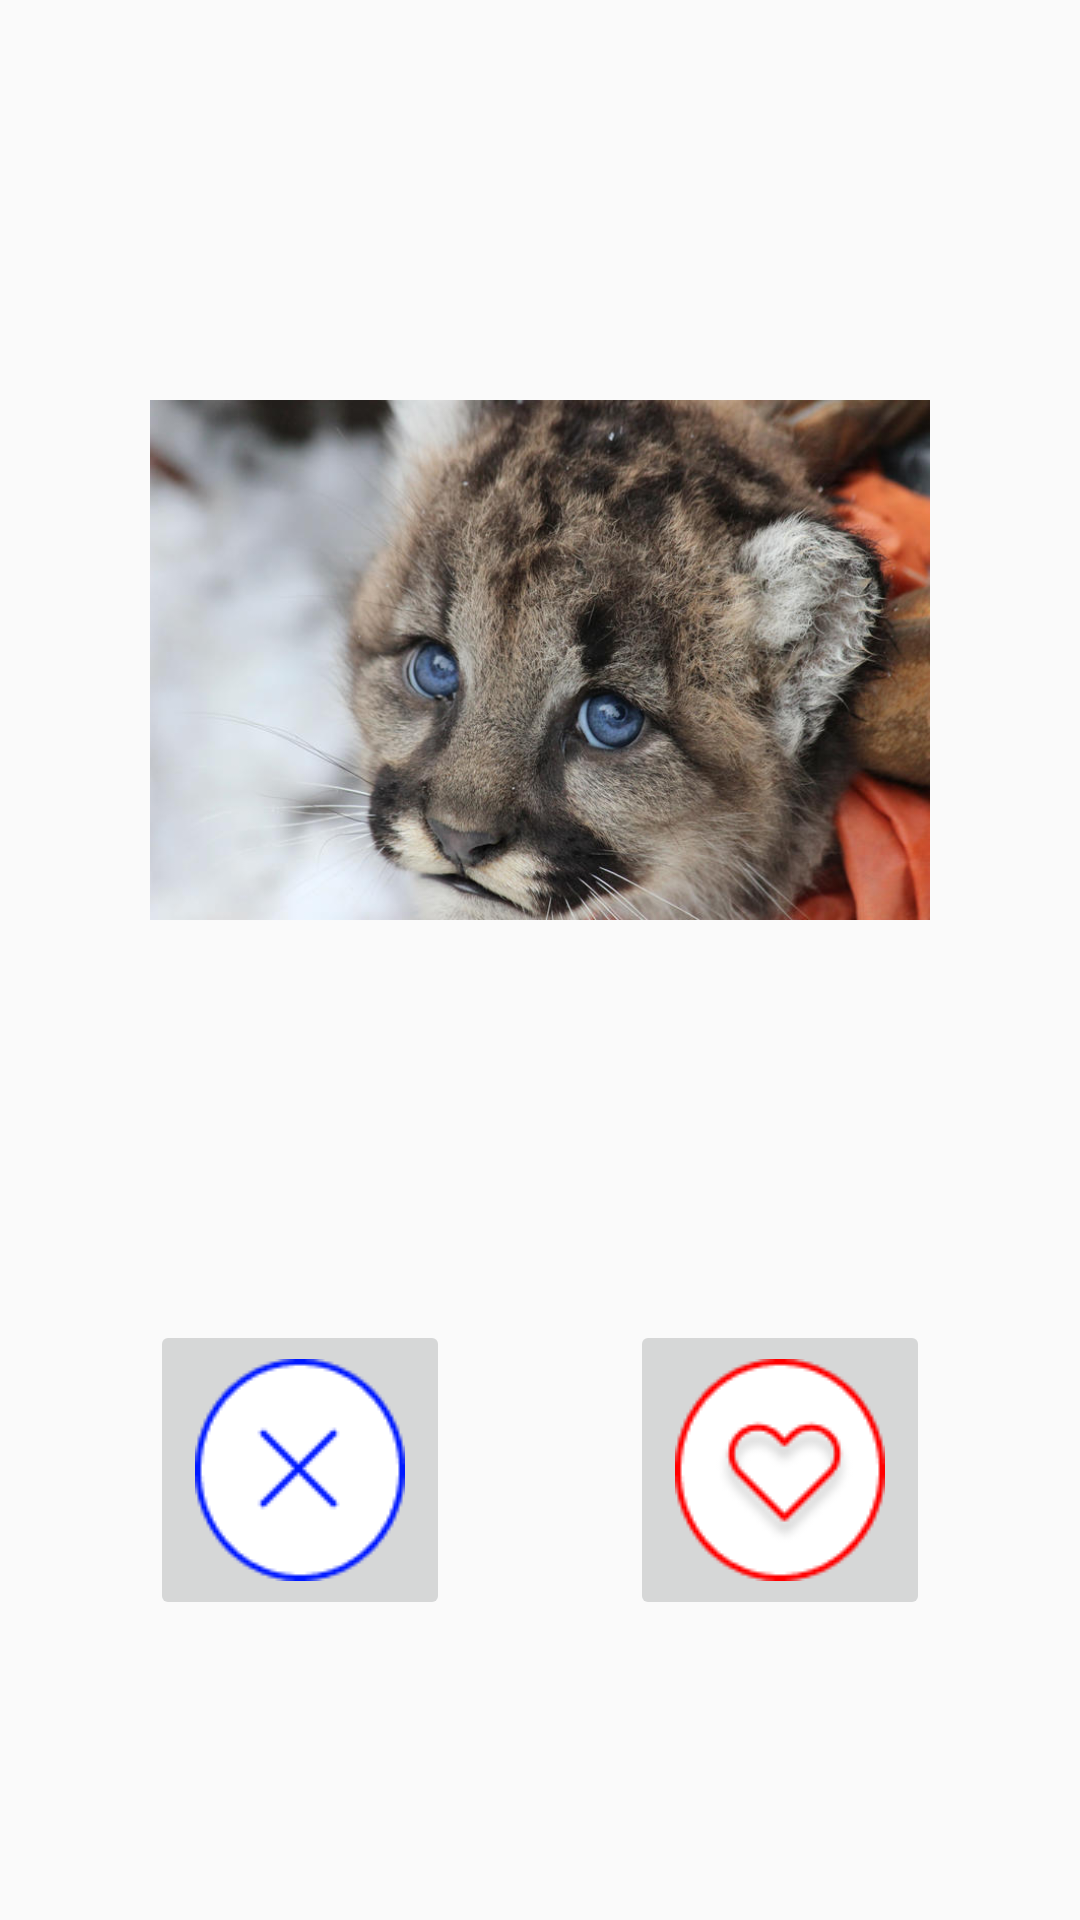

Screen size 1080px x 1920px. Icon name, then its box in pixels as {"left": x1, "top": y1, "right": x2, "bottom": y2}:
dislike: {"left": 162, "top": 1338, "right": 438, "bottom": 1602}
like: {"left": 642, "top": 1338, "right": 918, "bottom": 1602}
